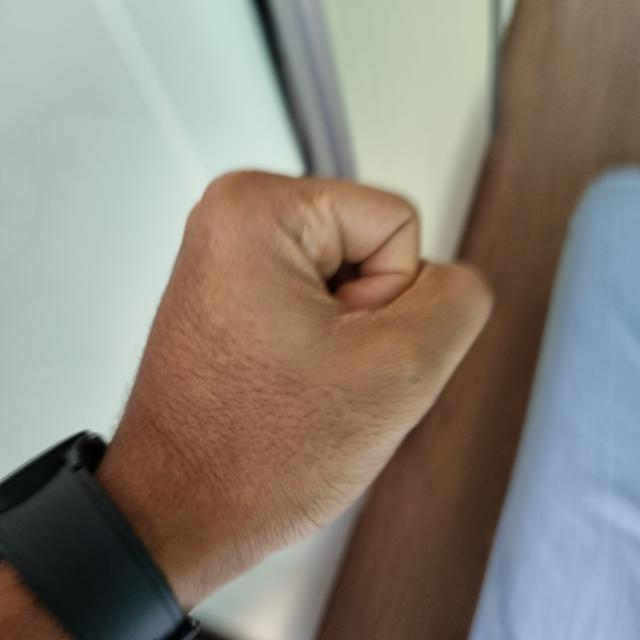Rock: (102, 164, 486, 592)
